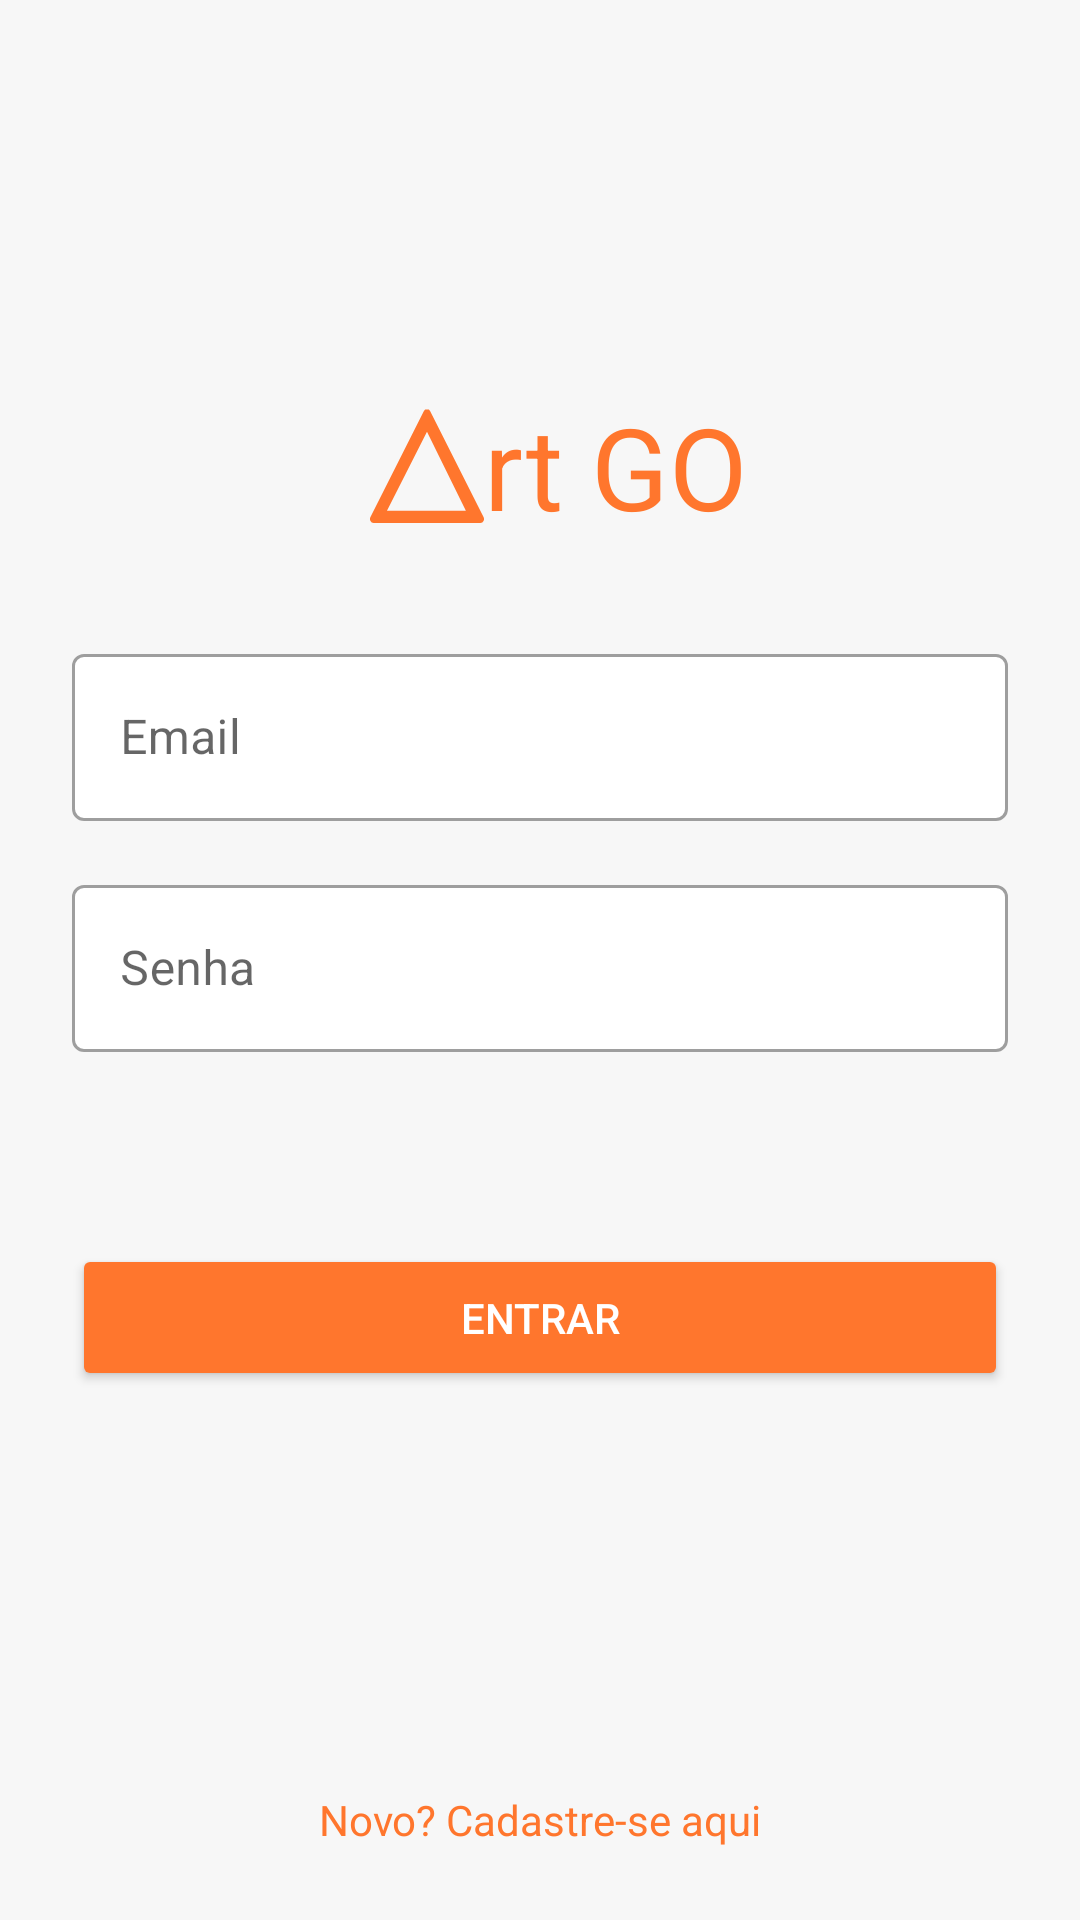

Where to tap for icons on this 1080px x 1920px app screen, as [x,y]:
triangle: [427,466]
